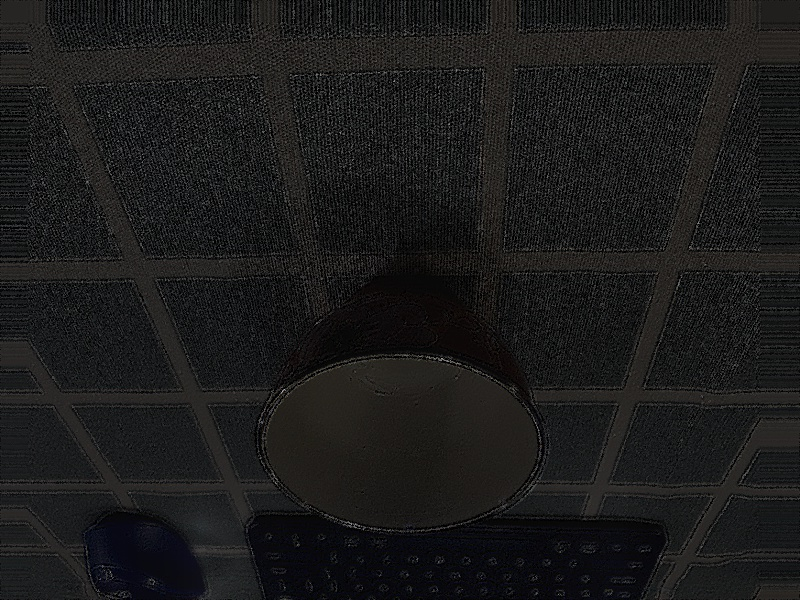bowl_small: (248, 267, 551, 539)
